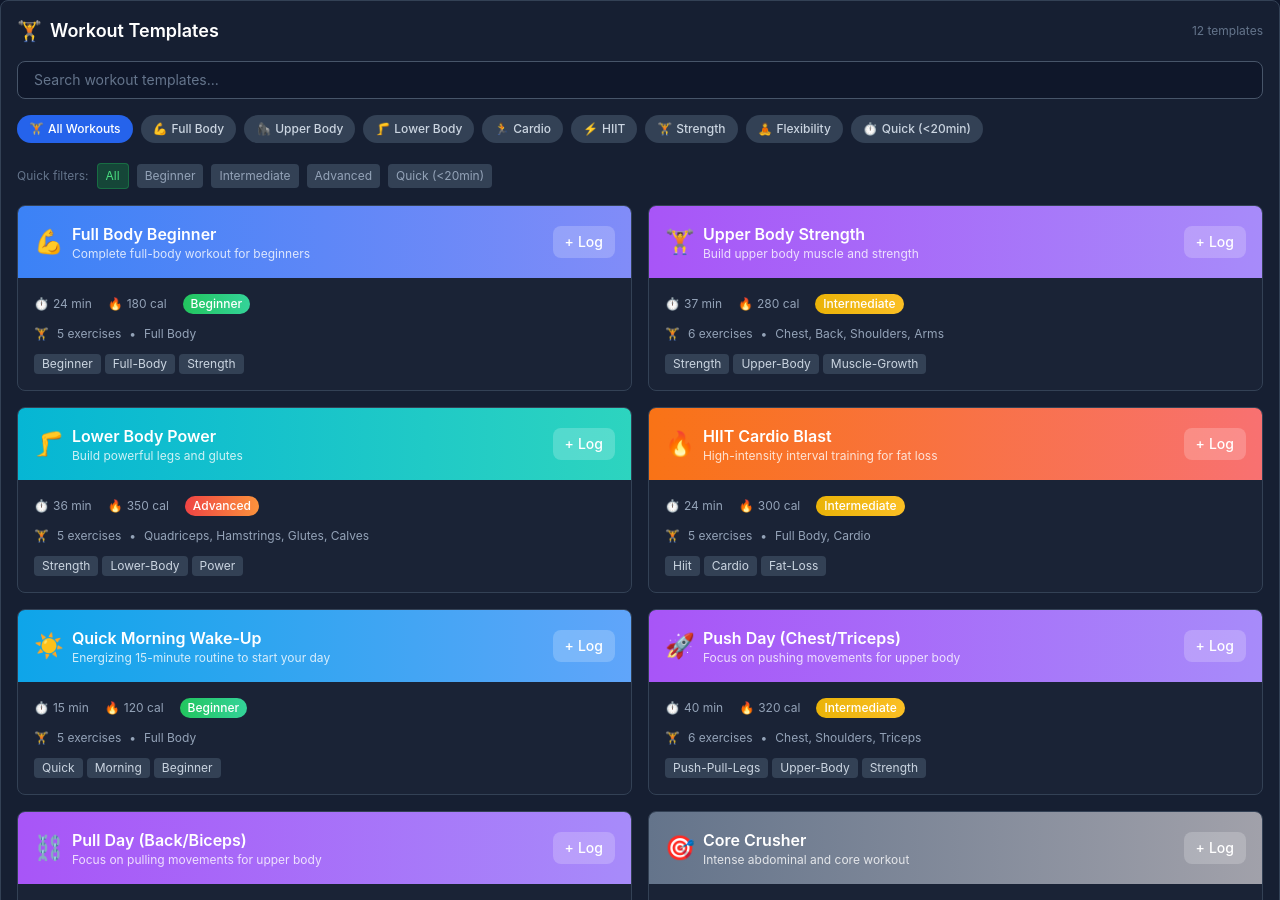
Test: WorkoutTemplates Component › Edge Cases › should handle empty template list gracefully
Type "this should not match anything" into the field with placeholder "Search workout templates...".
click(640, 80); type("this should not match anything")  # box [17, 61, 1263, 99]
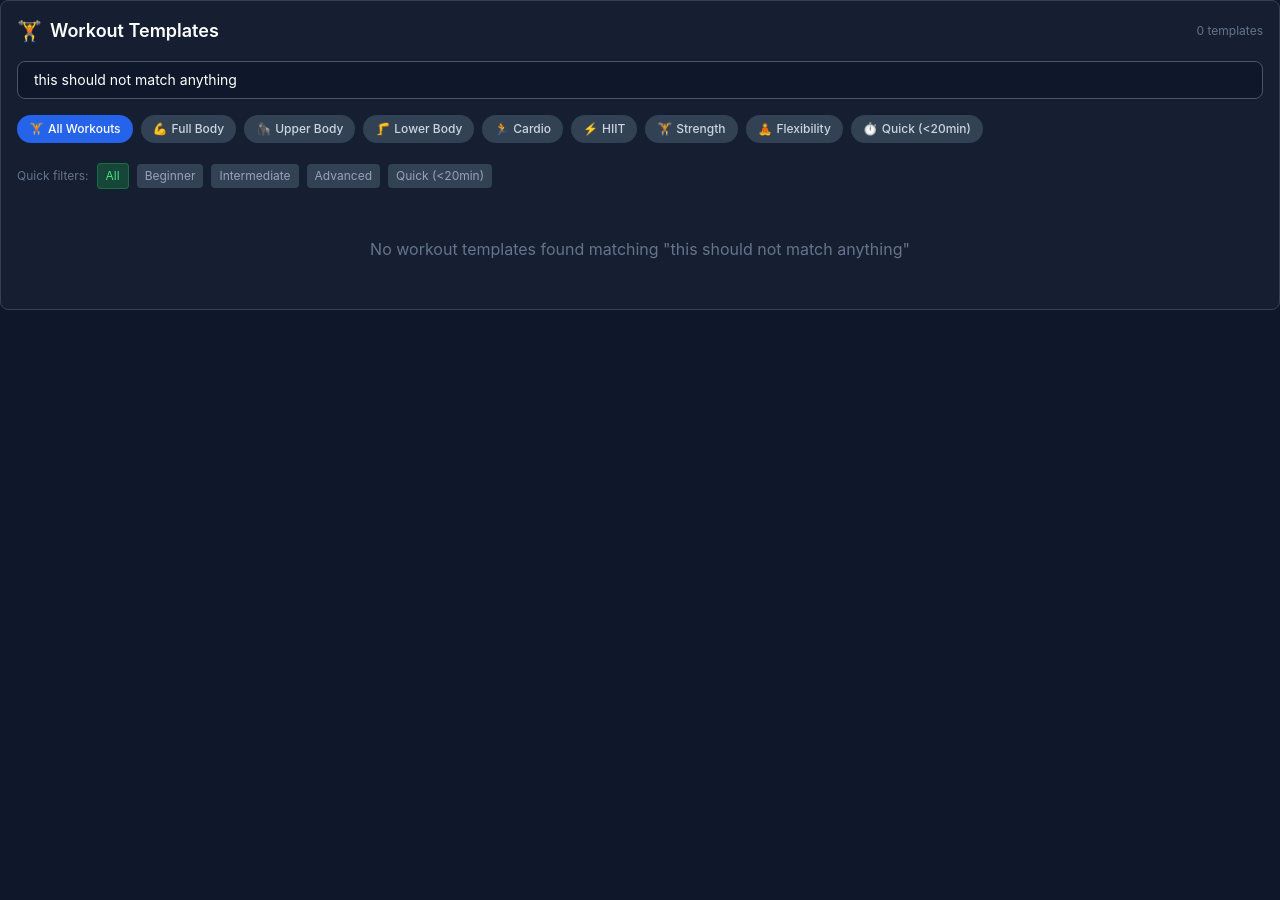
Now the text "No workout templates found" is shown, box [370, 239, 671, 259]
